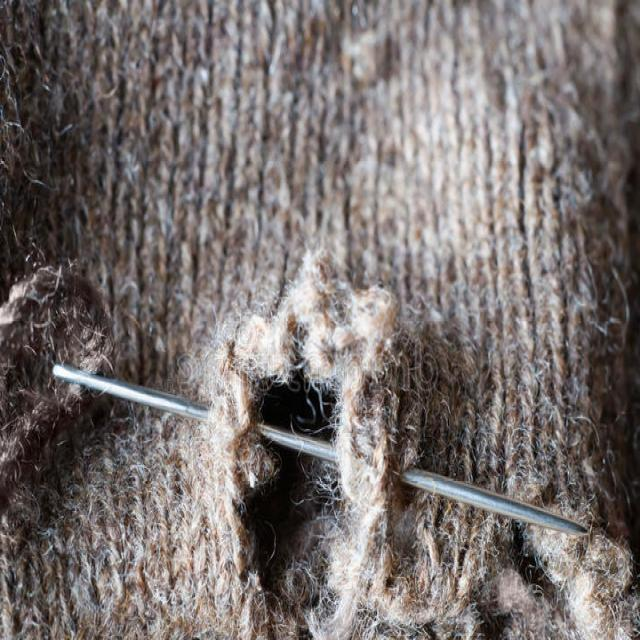clothes: (0, 196, 553, 640)
